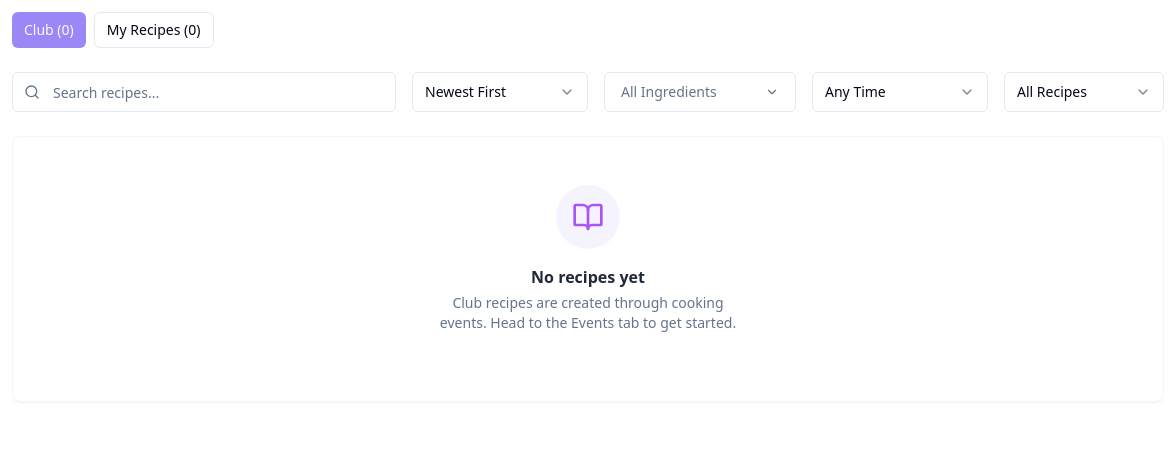
Test: RecipeHub - Sub-tabs › does not show ingredient filter in personal tab
Expected: the text "All Ingredients" is shown, [621, 82, 717, 102]
What coordinates should you click on to do the following:
click the button "My Recipes (0)"
I would click on:
 (154, 30)
Its box is [94, 12, 214, 48].
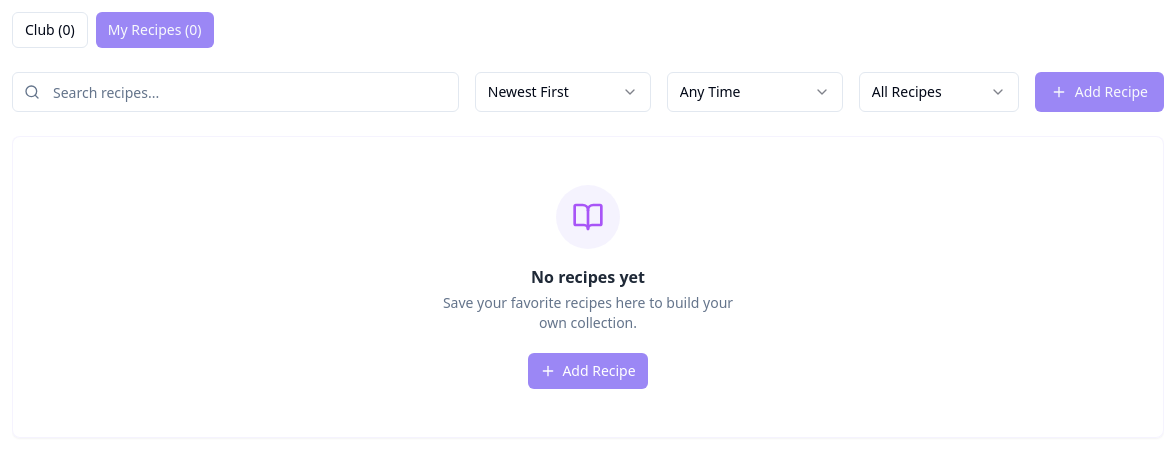
Expected: the dropdown "All Ingredients" is gone
